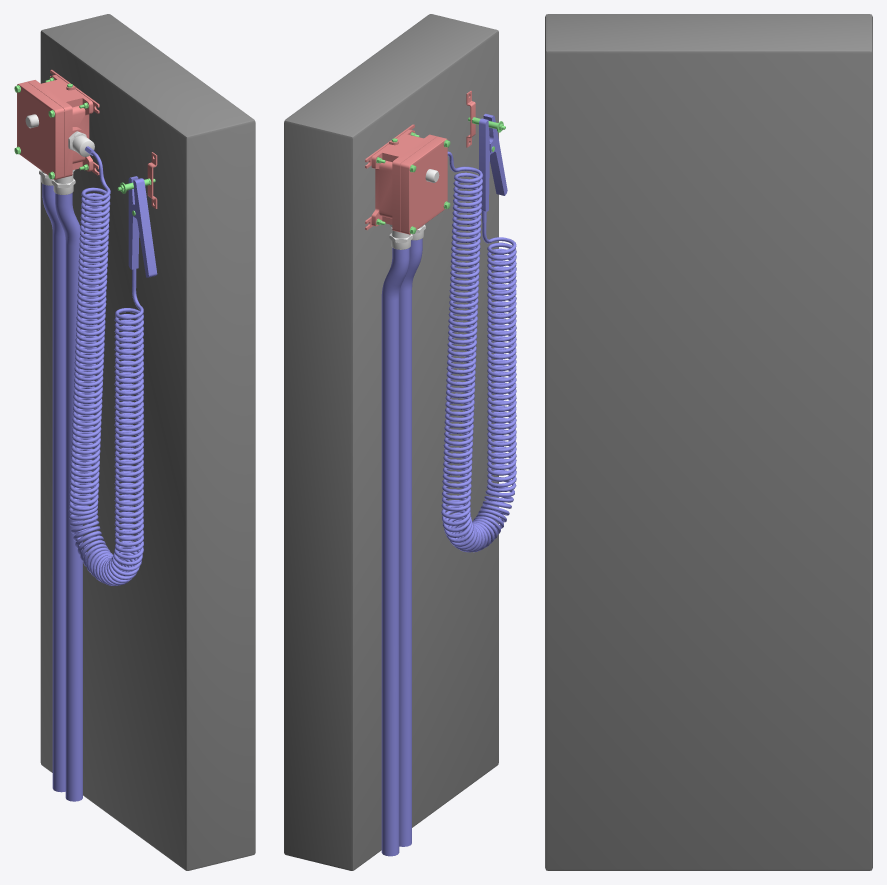
Rendered from SM_Zazemlenie_All.gltf.
3 renders of one model, left to right at view 1: azimuth 30°, elevation 25°; view 2: azimuth 150°, elevation 25°; view 3: azimuth 270°, elevation 25°, orthographic. The views are drawn at different scales.
Parts seen in each view (by area): view 1: SM_Zazemlenie_All; view 2: SM_Zazemlenie_All; view 3: SM_Zazemlenie_All.
Boxes of the visible parts, bbox=[...] form: SM_Zazemlenie_All: bbox=[14, 14, 255, 870]; SM_Zazemlenie_All: bbox=[284, 14, 516, 870]; SM_Zazemlenie_All: bbox=[545, 14, 872, 870].
Bounding box in the file's own units: 0.2112 × 1.26 × 0.4572.
